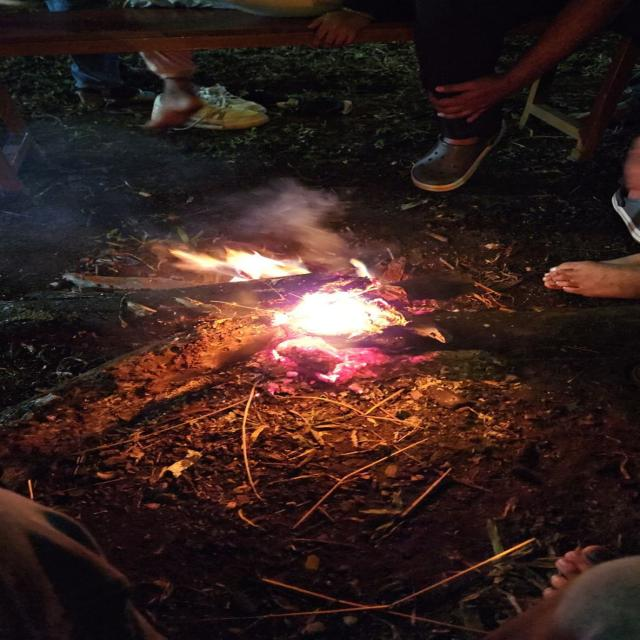fire: (272, 291, 388, 338), (168, 247, 308, 280), (270, 338, 355, 383)
